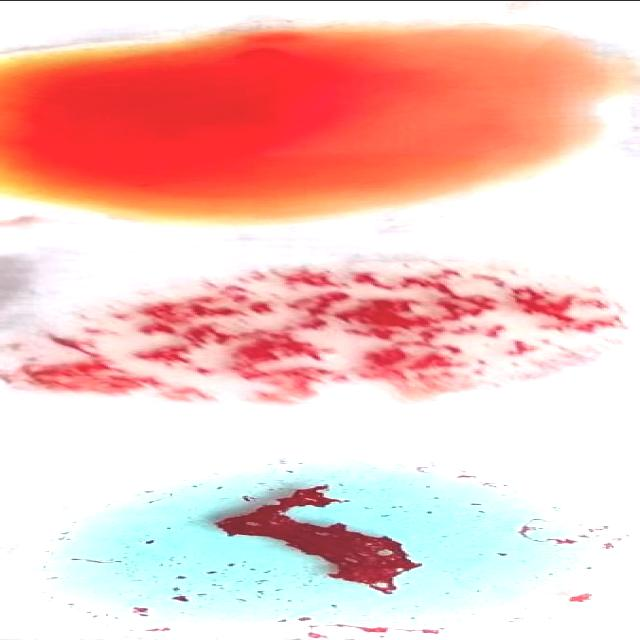A: (15, 459, 622, 635)
D: (0, 268, 622, 401)
